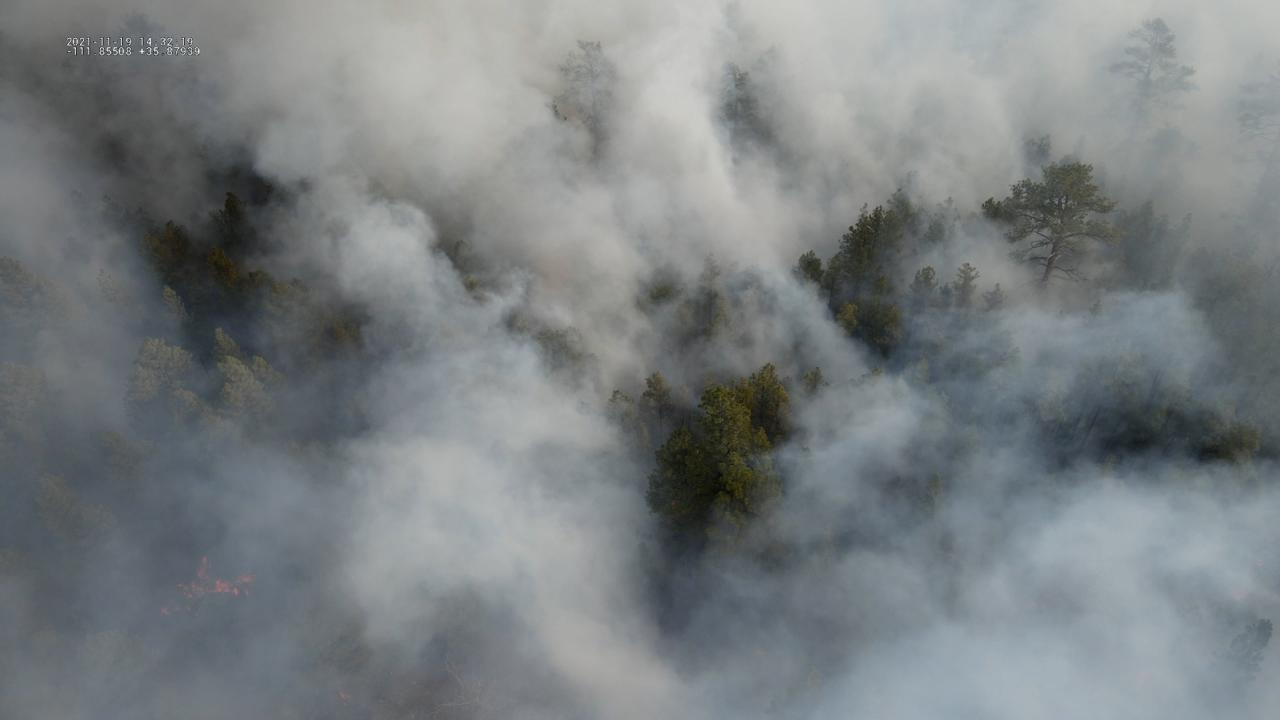fire: (158, 554, 258, 618)
smoke: (0, 0, 1280, 720)
